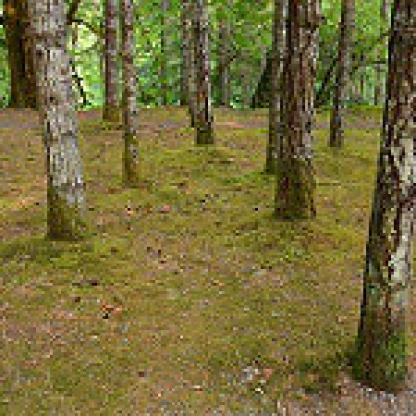trunk: (343, 0, 414, 400), (25, 0, 91, 244), (269, 0, 324, 222), (113, 0, 145, 192), (189, 0, 219, 147), (327, 0, 355, 150), (0, 0, 36, 103)
